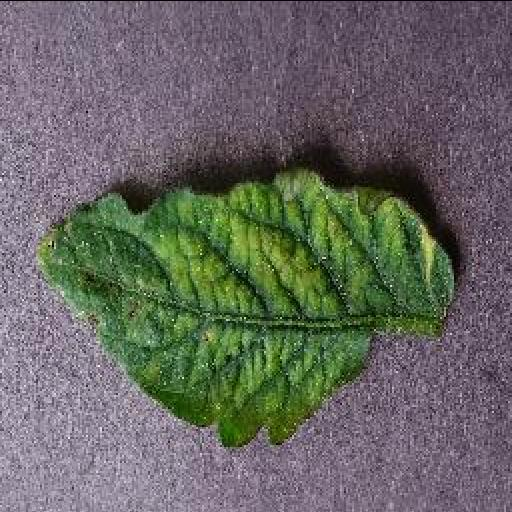Mosaic Virus: (22, 168, 466, 454)
